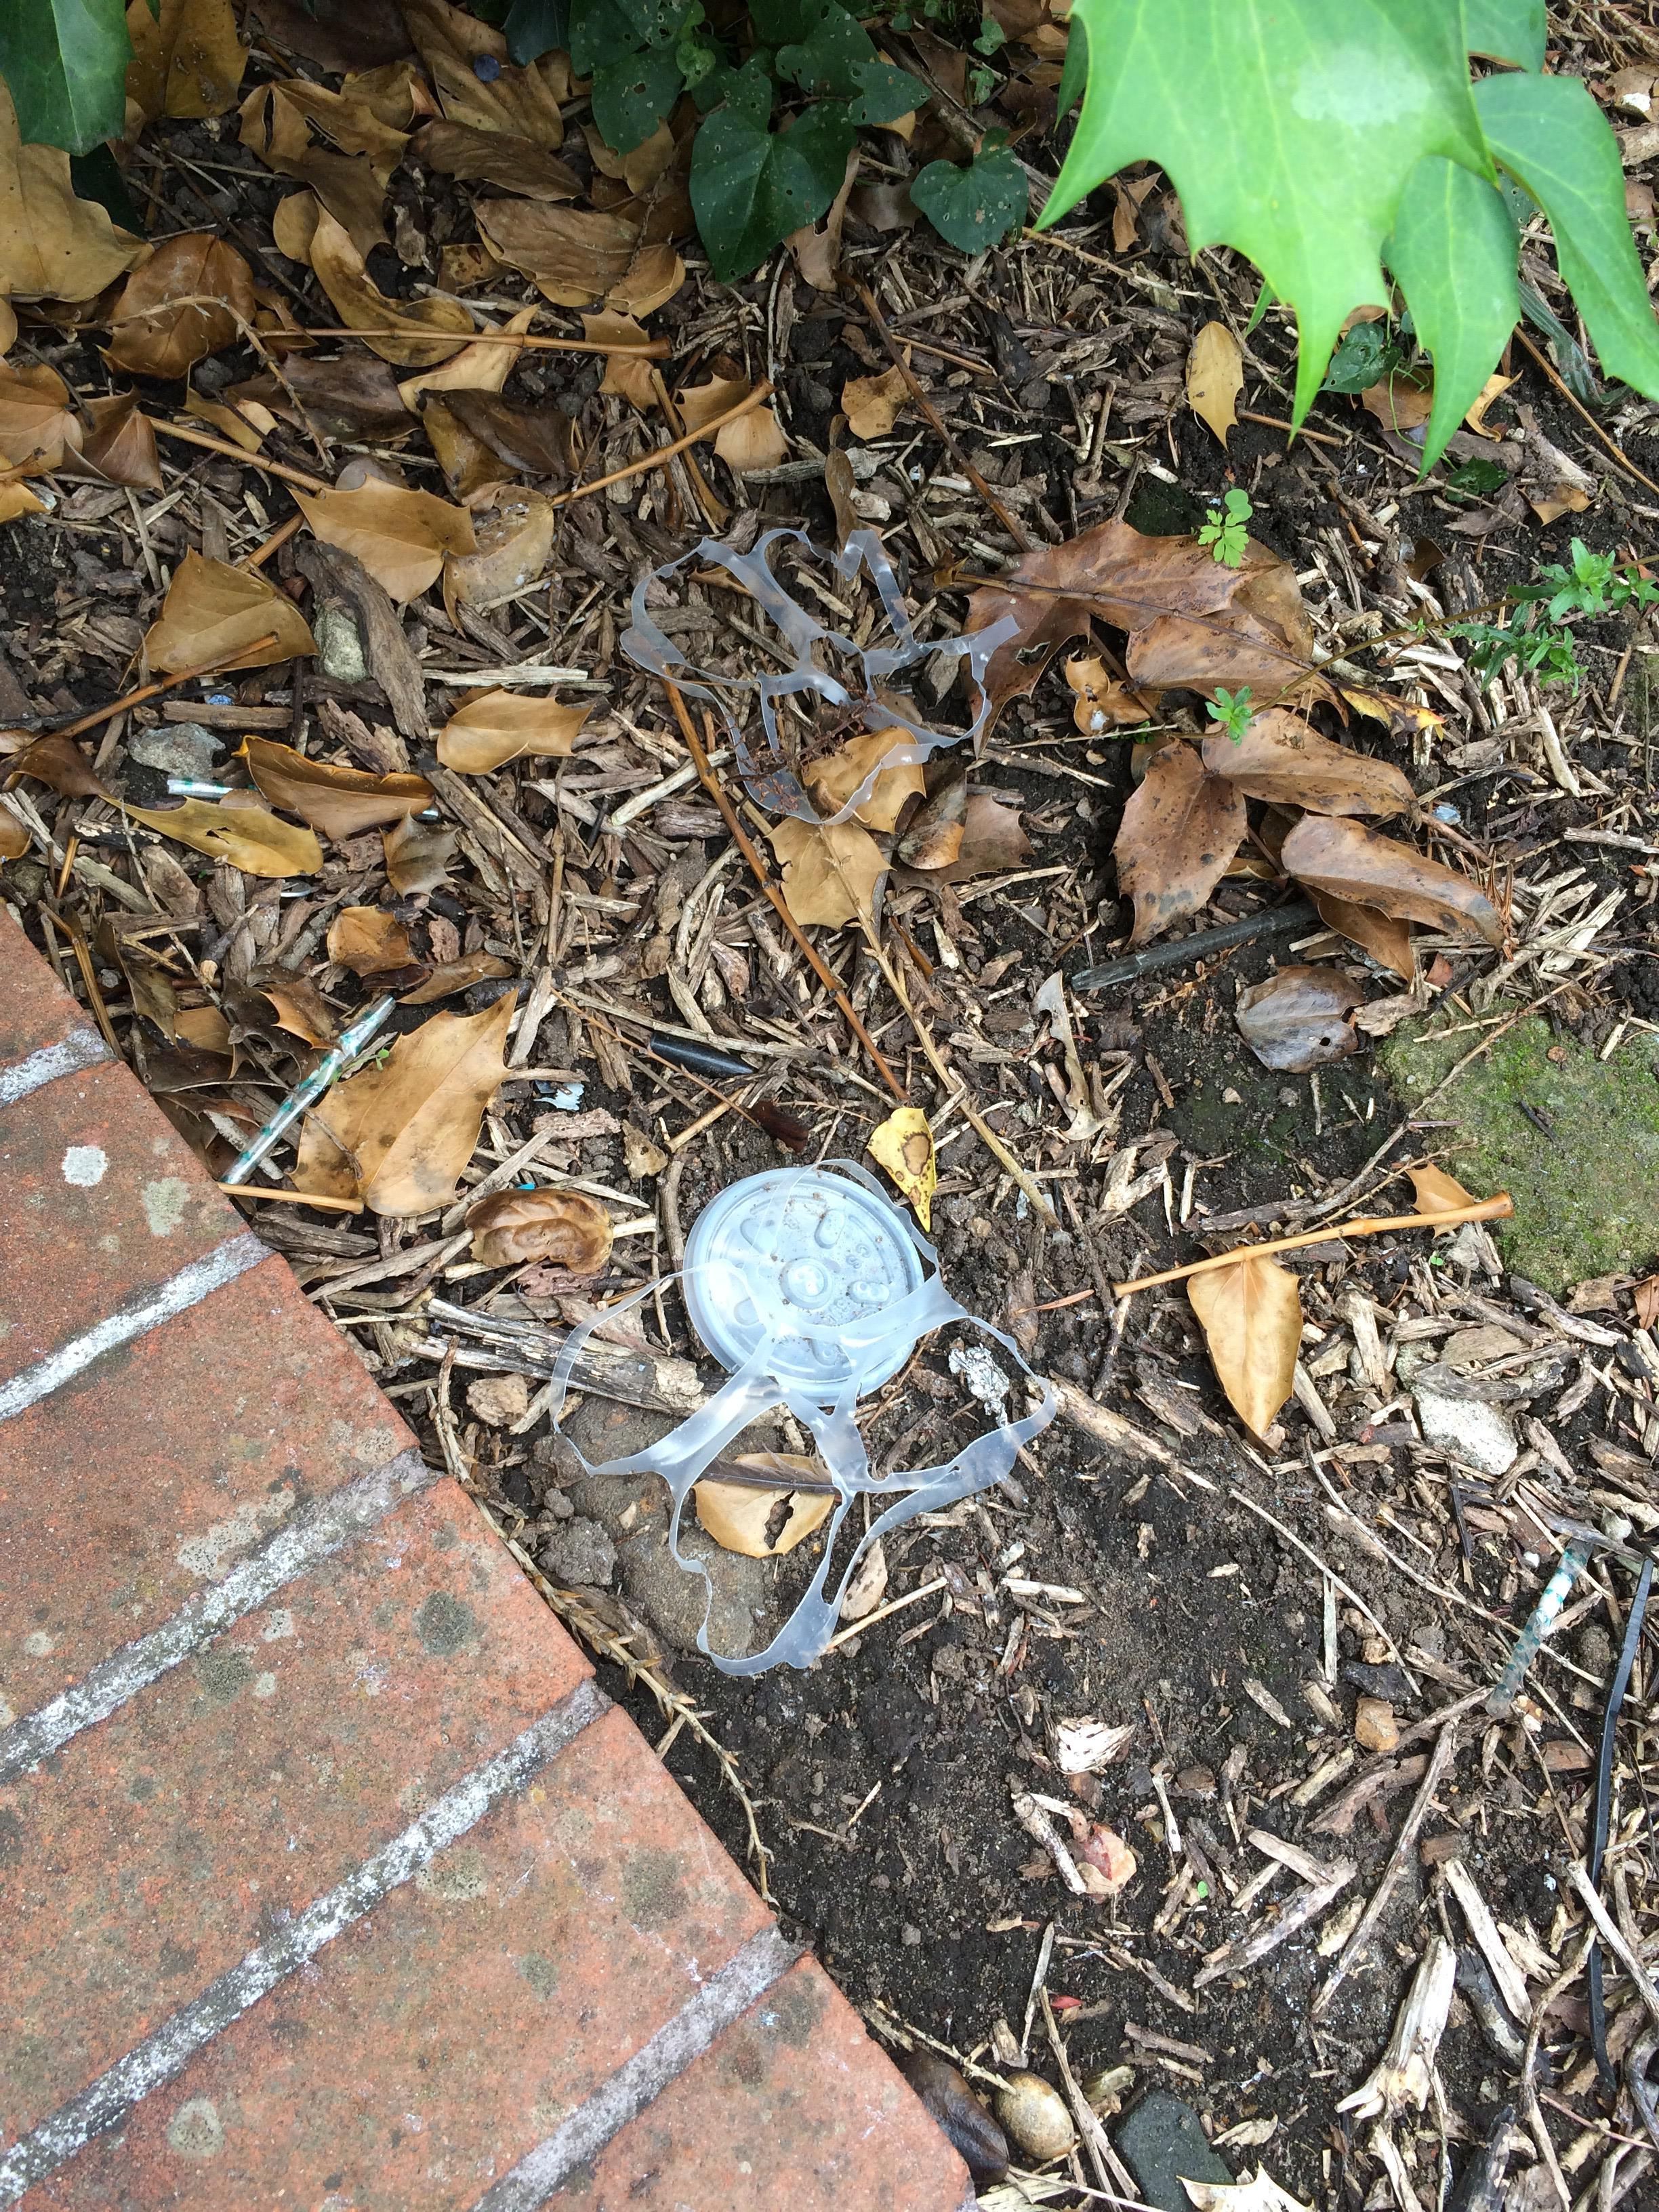Trash: (690, 1153, 920, 1393)
